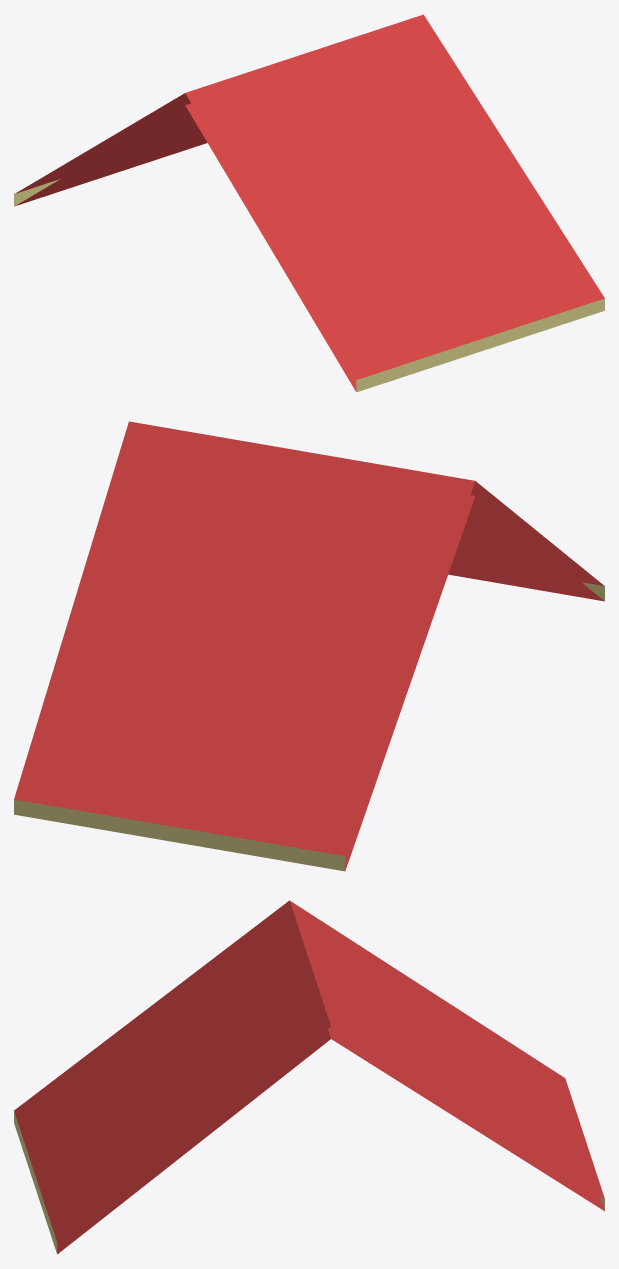
3 views of the same model, one above another, from view 1: azimuth 30°, elevation 25°; view 2: azimuth 150°, elevation 25°; view 3: azimuth 270°, elevation 25° (orthographic). The views are drawn at different scales.
Size of the model in its own units: 2.85 by 4.35 by 1.67.
